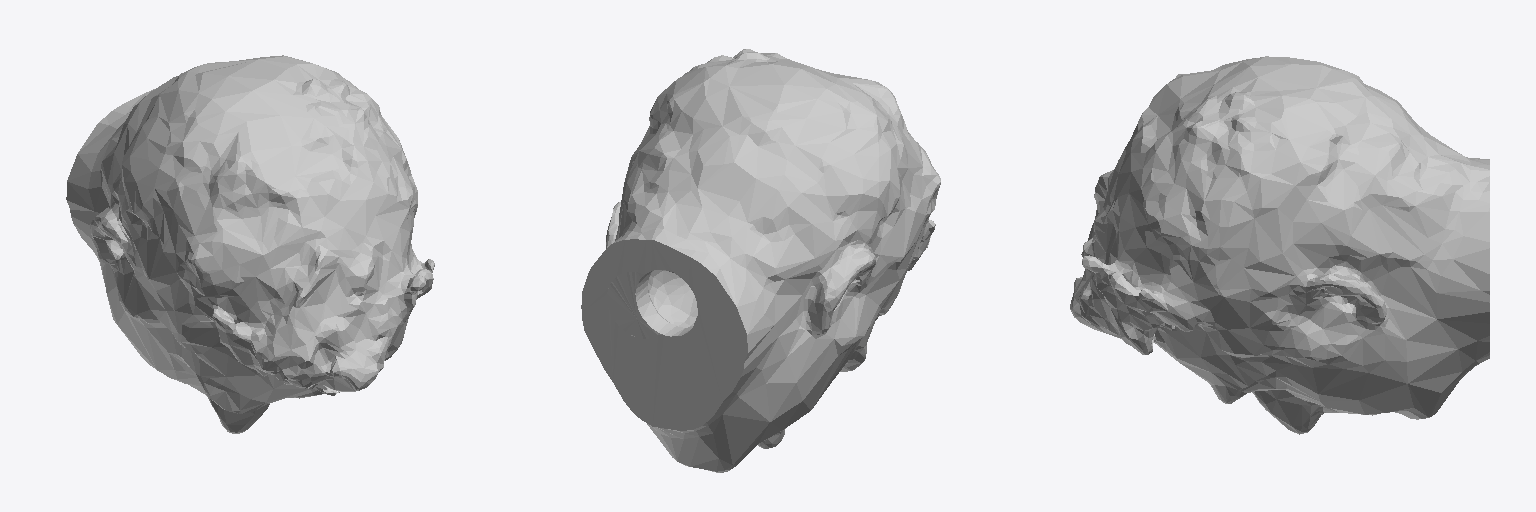
Rendered from 38157-face_QEM_90pct.obj.
3 views of the same model, side by side, from view 1: azimuth 30°, elevation 25°; view 2: azimuth 150°, elevation 25°; view 3: azimuth 270°, elevation 25° (orthographic).
Size of the model in its own units: 0.7034 by 0.9584 by 1.